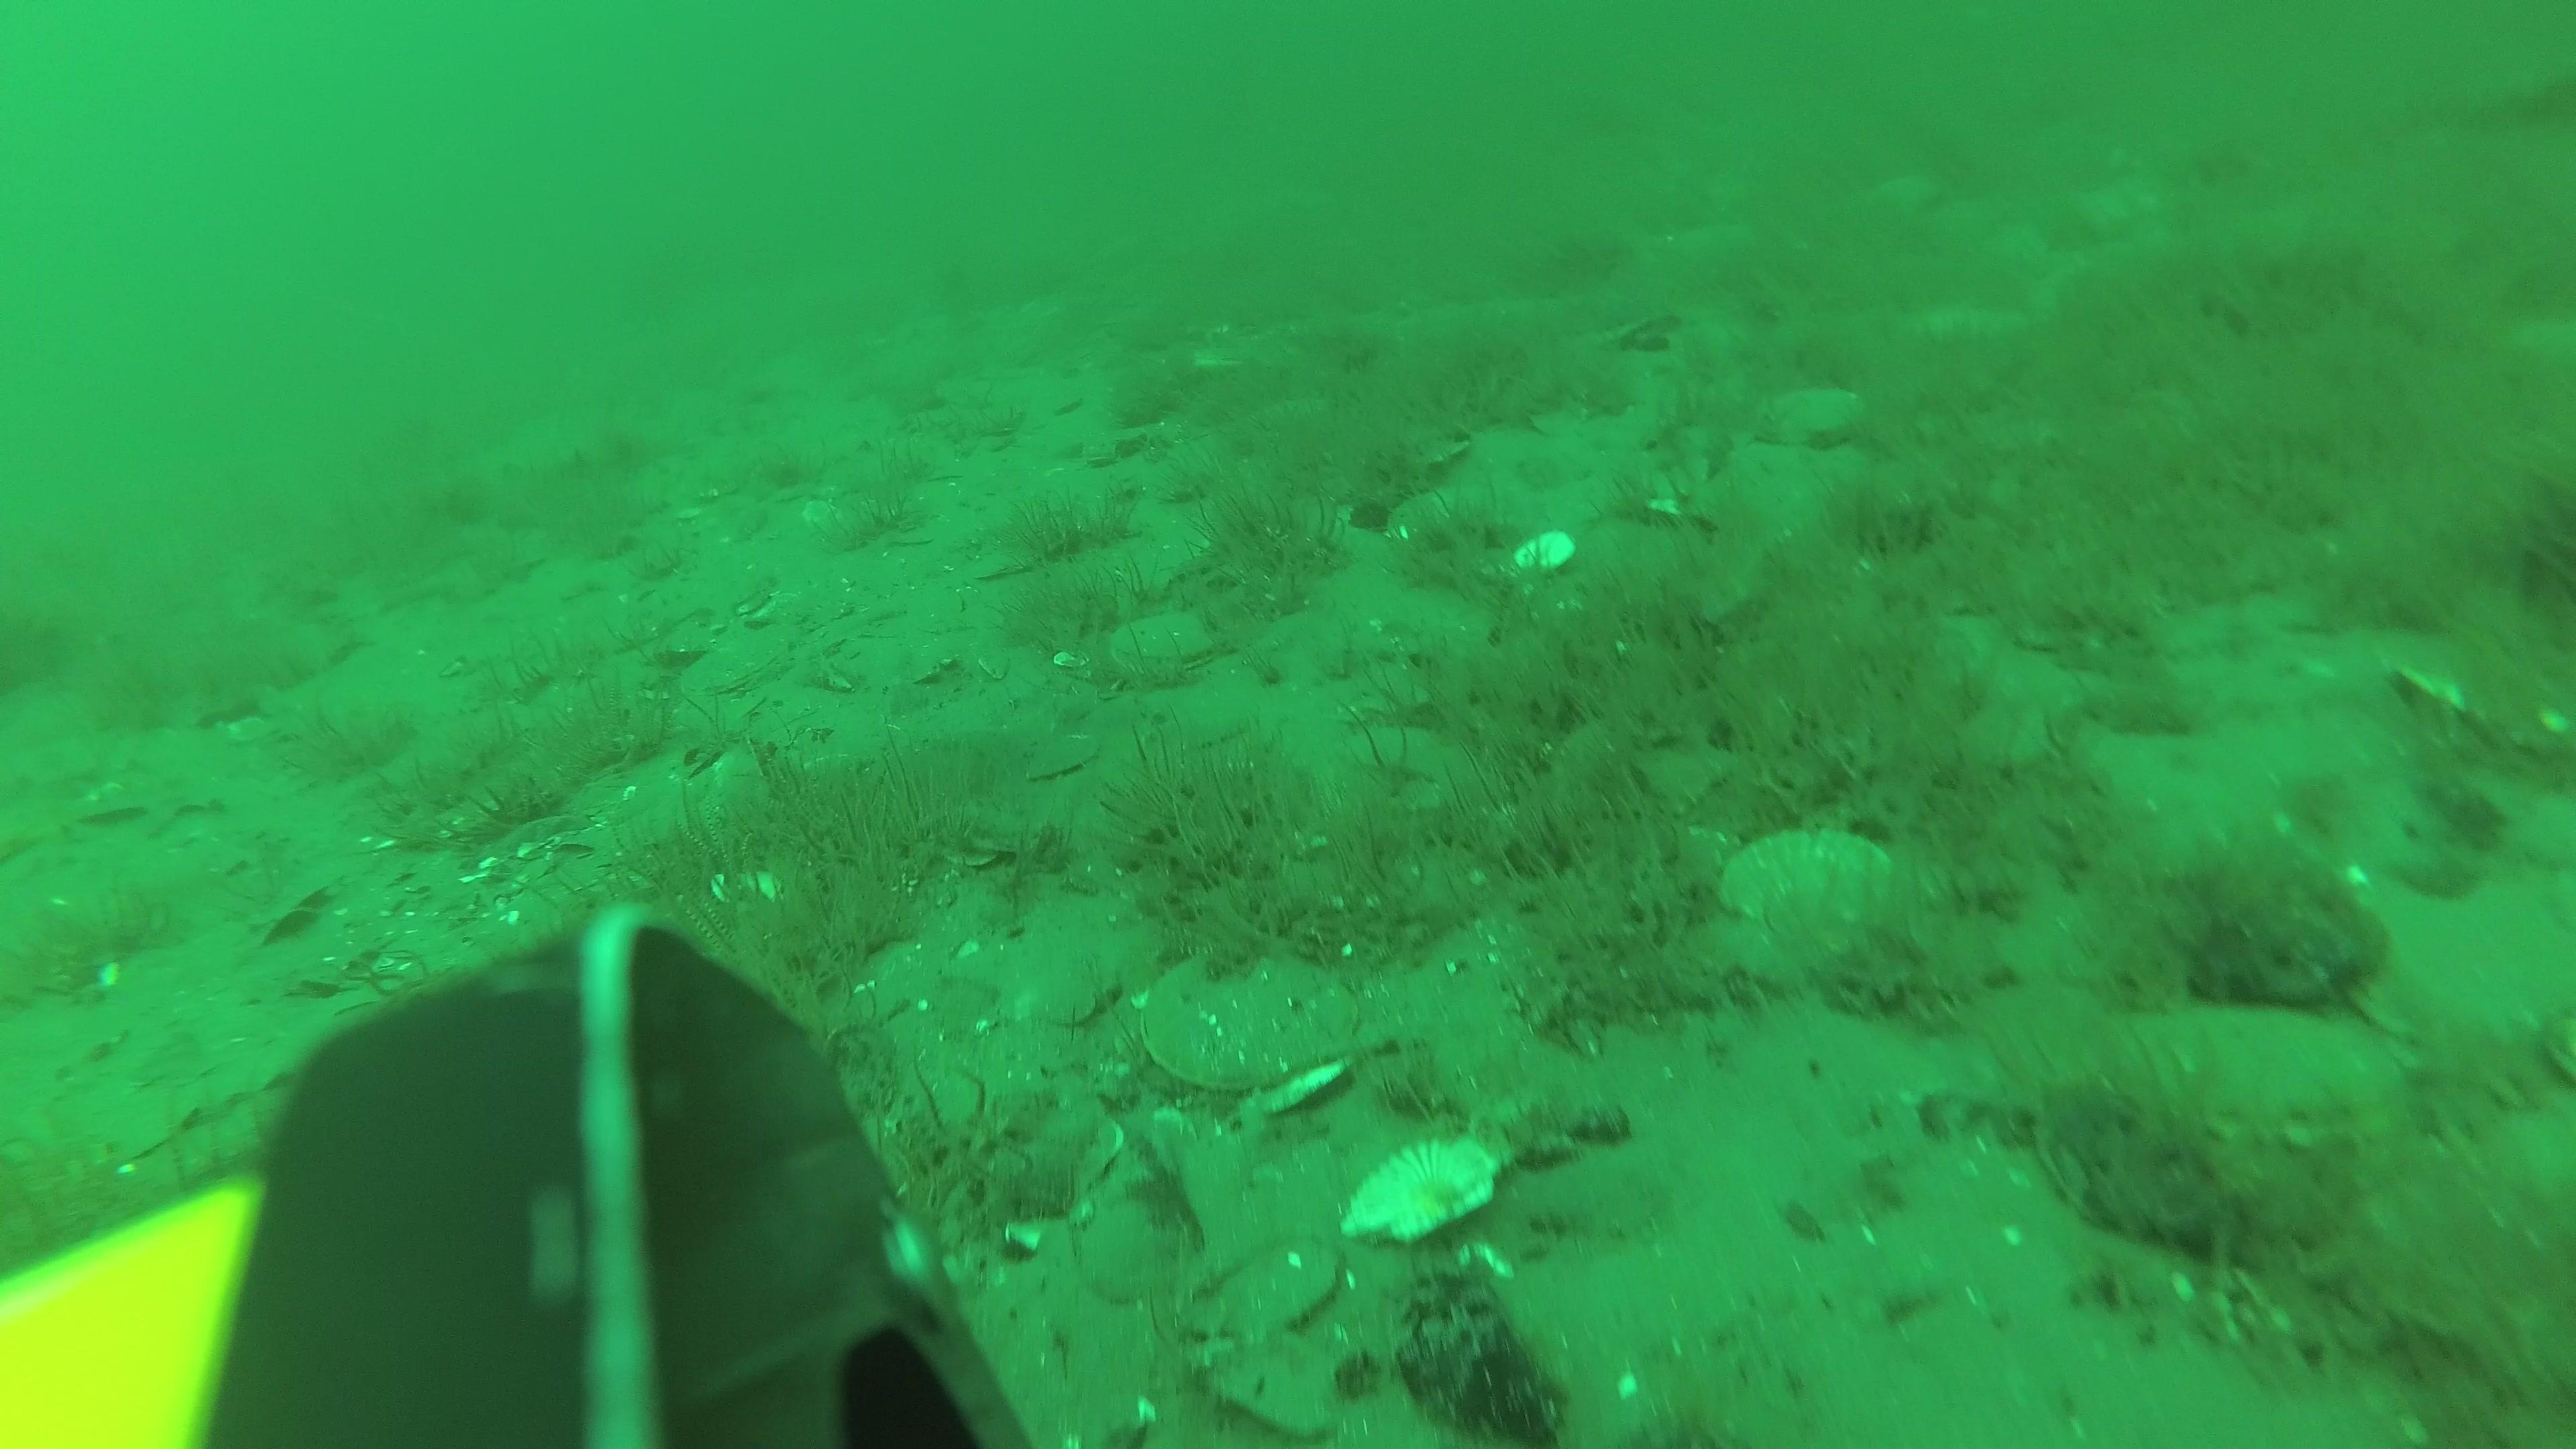scallop: (2128, 993, 2419, 1168), (1134, 941, 1373, 1099), (1718, 821, 1905, 939), (1329, 1132, 1520, 1247), (1108, 609, 1235, 681), (1753, 382, 1872, 453), (1338, 748, 1438, 828), (1366, 414, 1484, 472), (1148, 702, 1249, 768), (1023, 727, 1104, 786), (1500, 451, 1601, 497), (1391, 485, 1465, 541), (1506, 525, 1576, 573), (962, 547, 1044, 582), (1946, 1431, 1948, 1437)
